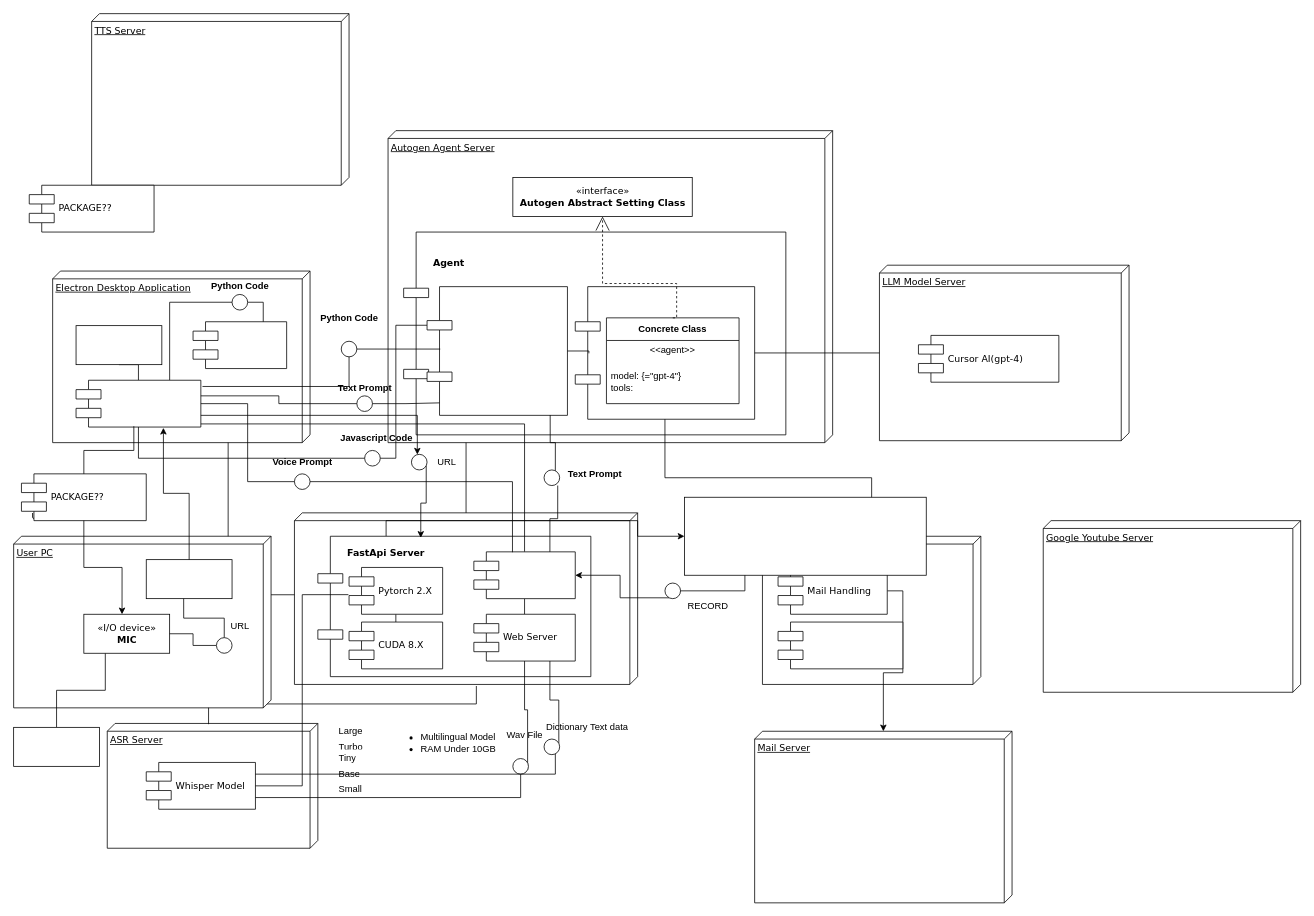
Image size: 1314x916. Some labels were removed from this diagram. Each missing label, with the box of its shape:
Assistant Agent: (574, 286, 755, 419)
Client Main Server: (75, 379, 201, 427)
Python Env: (192, 321, 287, 369)
STT Server: (294, 512, 638, 684)
User Proxy Agent: (426, 286, 567, 415)
WAS: (473, 551, 575, 599)
Youtube Handling: (777, 621, 903, 669)
«client» GUI: (75, 325, 162, 365)
«client» local storage: (145, 559, 232, 599)
«user» Human: (13, 727, 99, 766)
«webserver» RECORD STORING WEBSERVER: (684, 496, 926, 575)
